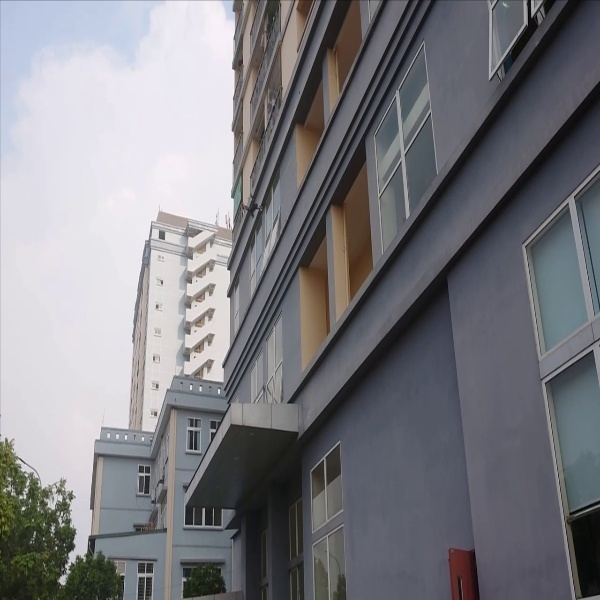drone: (234, 190, 269, 220)
